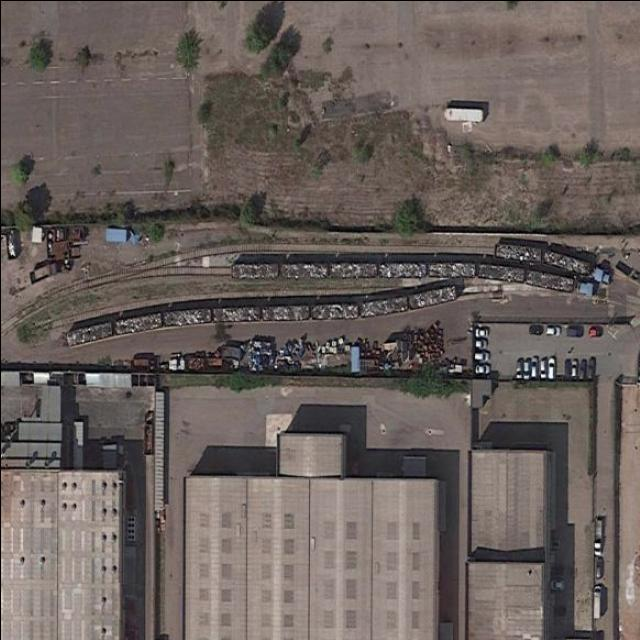dump_site: (541, 248, 589, 277), (64, 320, 112, 347), (408, 284, 456, 310), (525, 270, 573, 294), (359, 294, 407, 318), (113, 311, 161, 335), (274, 338, 305, 371), (245, 340, 273, 374), (493, 243, 540, 263), (163, 307, 210, 327), (279, 261, 327, 280), (477, 263, 523, 282), (329, 260, 376, 278), (310, 303, 357, 320), (261, 304, 307, 321), (377, 261, 425, 277), (427, 261, 474, 277), (212, 305, 259, 321), (231, 263, 276, 278)
